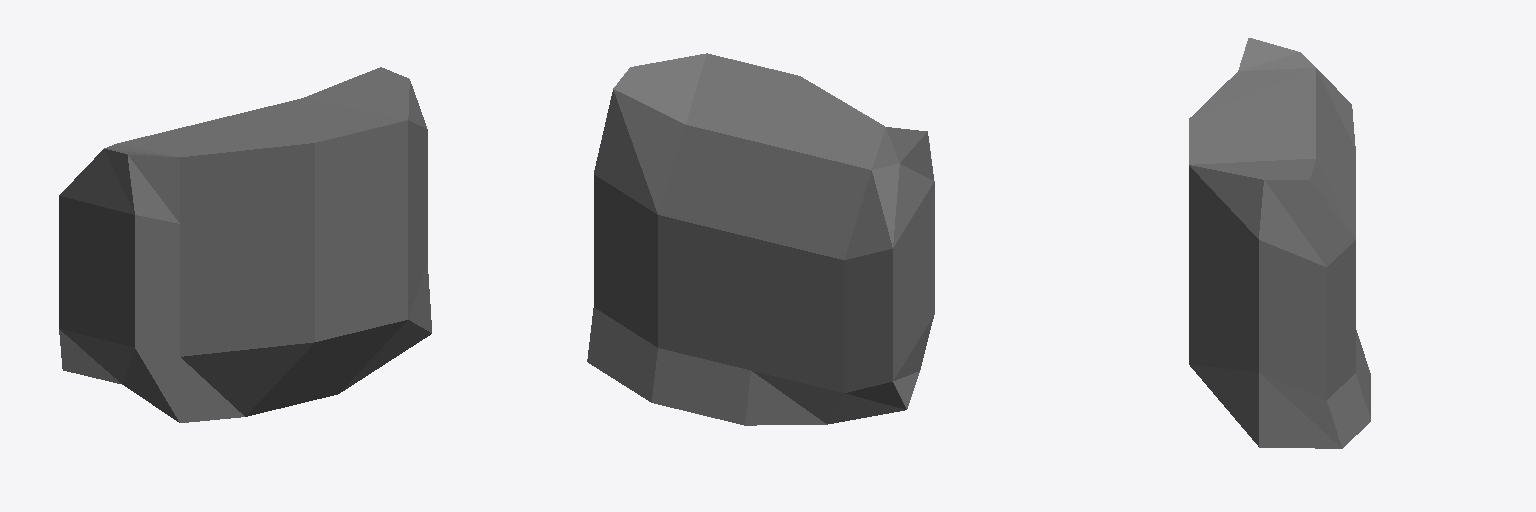
Rendered from rock2.obj.
The picture shows the model from 3 angles: view 1: azimuth 30°, elevation 25°; view 2: azimuth 150°, elevation 25°; view 3: azimuth 270°, elevation 25°; orthographic projection.
Parts seen in each view (by area): view 1: pCube1_pCube1; view 2: pCube1_pCube1; view 3: pCube1_pCube1.
Part boxes in pixels (left/top/right/bottom): pCube1_pCube1: left=59, top=67, right=431, bottom=422; pCube1_pCube1: left=587, top=53, right=934, bottom=425; pCube1_pCube1: left=1189, top=38, right=1370, bottom=448.
Bounding box in the file's own units: 7.18 × 6.12 × 3.42.